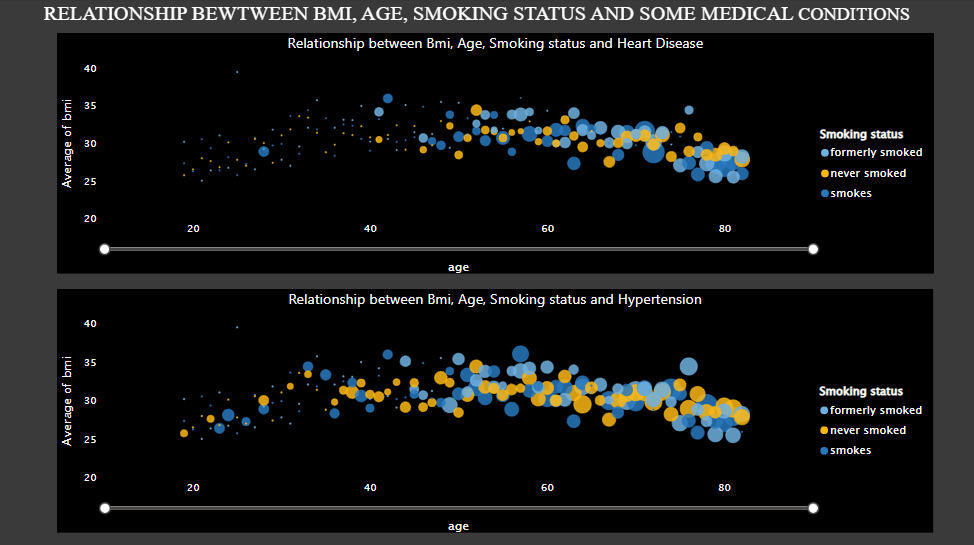

Layout of this report page (visuals, bound fields, positions):
{"tool":"powerbi","page":{"name":"Page 2","canvas":[1280,720],"ordinal":0},"visuals":[{"type":"scatterChart","title":"Relationship between Bmi, Age, Smoking status and Heart Disease","fields":{"X":["stroke-prediction-dataset.age"],"Y":["Avg(stroke-prediction-dataset.bmi)"],"Size":["Avg(stroke-prediction-dataset.heart_disease)"],"Series":["stroke-prediction-dataset.smoking_status"]},"box":[77,45.2,1147.7,314.8],"z":0},{"type":"scatterChart","title":"Relationship between Bmi, Age, Smoking status and Hypertension","fields":{"X":["stroke-prediction-dataset.age"],"Y":["Avg(stroke-prediction-dataset.bmi)"],"Size":["Avg(stroke-prediction-dataset.hypertension)"],"Series":["stroke-prediction-dataset.smoking_status"]},"box":[77.3,381.3,1147.3,319.2],"z":1000},{"type":"textbox","box":[54.5,0,1184.9,45.2],"z":2000}]}

Visuals, with their boxes in screenshot pixels (x1, y1, x2, y2), scaled from the page's 1280x720 canvas onto the 974x545 screenshot:
"Relationship between Bmi, Age, Smoking status and Heart Disease" scatterChart: <bbox>59, 34, 932, 272</bbox>
"Relationship between Bmi, Age, Smoking status and Hypertension" scatterChart: <bbox>59, 289, 932, 530</bbox>
textbox: <bbox>41, 0, 943, 34</bbox>
